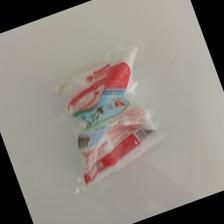Ajinomoto: (44, 47, 169, 186)
